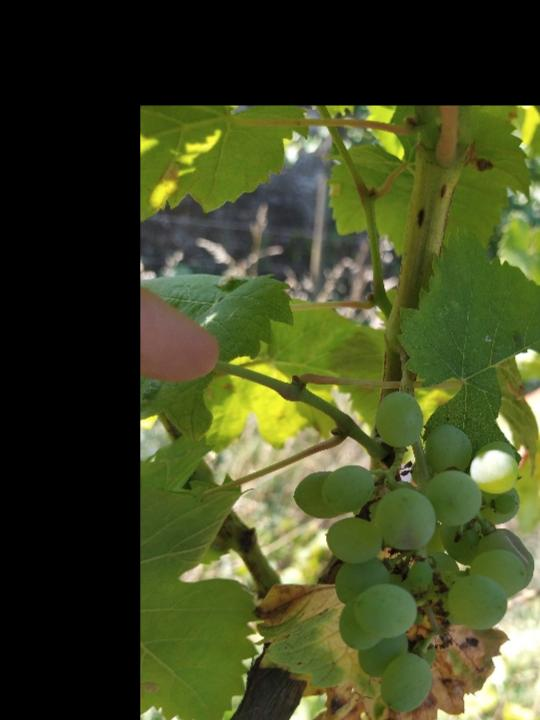grape: (290, 386, 538, 718)
